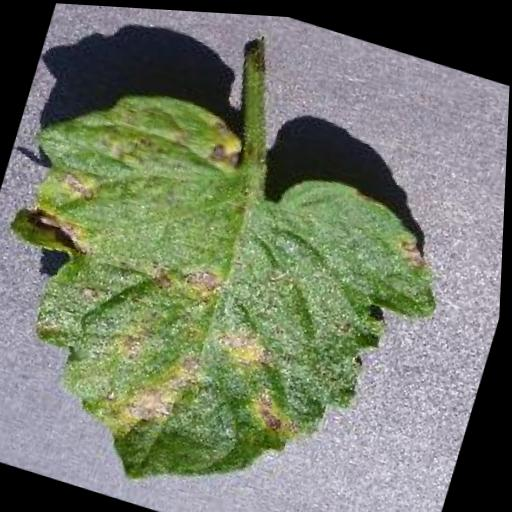Septoria: (0, 59, 469, 512)
